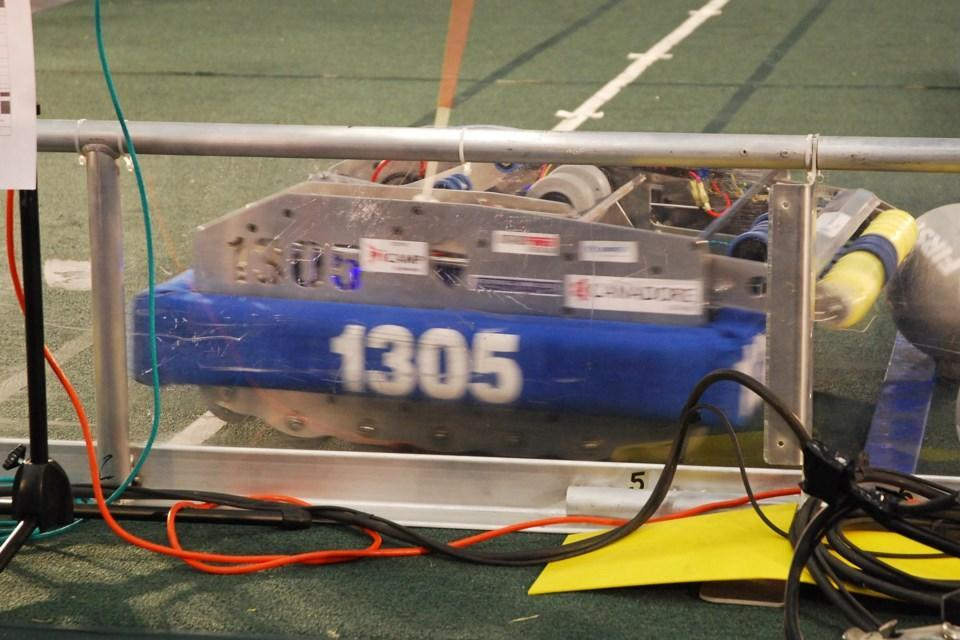robot: (125, 97, 918, 458)
